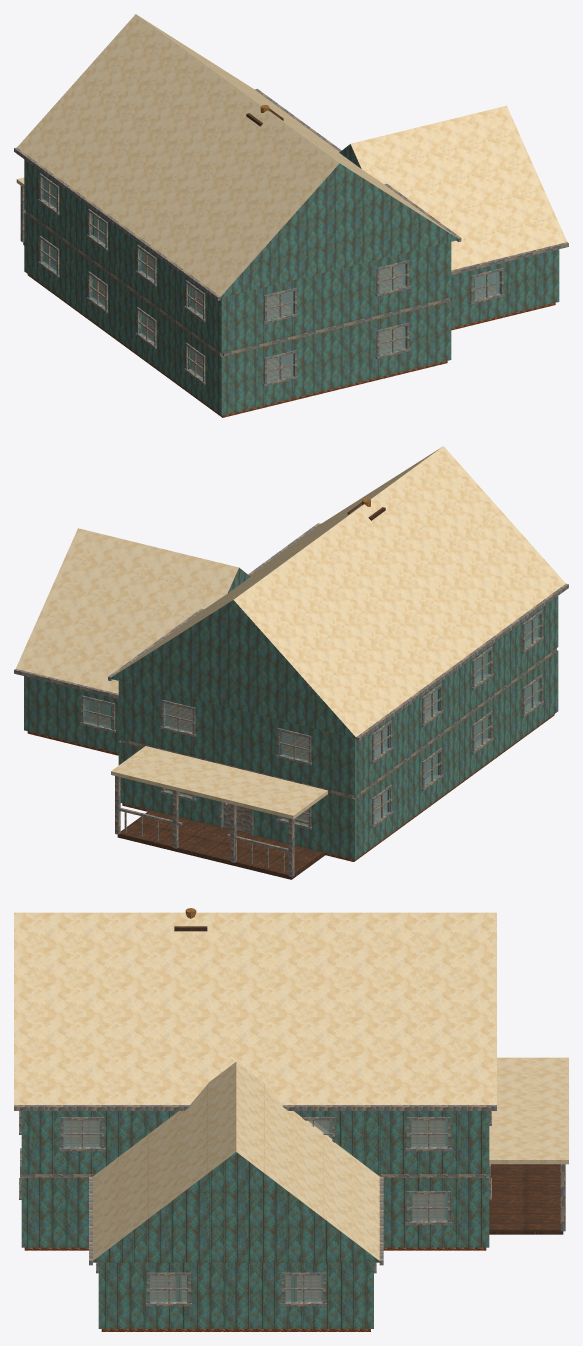
File: elm-cross-gable.gltf
The picture shows the model from 3 angles, top to bottom: view 1: azimuth 30°, elevation 25°; view 2: azimuth 150°, elevation 25°; view 3: azimuth 270°, elevation 25°; orthographic projection. The views are drawn at different scales.
Parts seen in each view (by area): view 1: roof-L1-green-metal, exterior-L0-cream-siding, exterior-L1-cream-siding, roof-L0-green-metal, roof-L1-cream-siding, trim-L0-dark-wood, trim-L1-dark-wood, glazing-L0-glass, floor-L0-floor, glazing-L1-glass, roof-L1-dark-wood, exterior-L0-dark-wood (+2 smaller); view 2: roof-L1-green-metal, exterior-L0-cream-siding, exterior-L1-cream-siding, roof-L0-green-metal, roof-L1-cream-siding, porch-L0-green-metal, porch-L0-stone, trim-L1-dark-wood, trim-L0-dark-wood, porch-L0-dark-wood, glazing-L1-glass, roof-L1-dark-wood (+6 smaller); view 3: roof-L1-green-metal, exterior-L0-cream-siding, roof-L0-green-metal, roof-L0-cream-siding, exterior-L1-cream-siding, porch-L0-green-metal, porch-L0-stone, floor-L0-floor, glazing-L0-glass, trim-L0-dark-wood, roof-L1-dark-wood, glazing-L1-glass (+4 smaller).
Boxes of the visible parts, box(x1,y1,x2,y2) form: roof-L1-green-metal: box(17, 14, 455, 296); exterior-L0-cream-siding: box(24, 212, 559, 415); exterior-L1-cream-siding: box(24, 159, 451, 353); roof-L0-green-metal: box(350, 105, 566, 270); roof-L1-cream-siding: box(220, 163, 458, 297); trim-L0-dark-wood: box(38, 236, 504, 386); trim-L1-dark-wood: box(38, 173, 410, 323); glazing-L0-glass: box(43, 241, 499, 381); floor-L0-floor: box(27, 274, 555, 417); glazing-L1-glass: box(43, 179, 405, 318); roof-L1-dark-wood: box(14, 89, 461, 300); exterior-L0-dark-wood: box(25, 210, 449, 356); roof-L1-green-metal: box(114, 446, 565, 736); exterior-L0-cream-siding: box(24, 650, 558, 859); exterior-L1-cream-siding: box(118, 596, 558, 795); roof-L0-green-metal: box(16, 528, 238, 693); roof-L1-cream-siding: box(111, 600, 355, 738); porch-L0-green-metal: box(111, 746, 327, 819); porch-L0-stone: box(117, 810, 324, 879); trim-L1-dark-wood: box(160, 610, 543, 765); trim-L0-dark-wood: box(80, 674, 543, 835); porch-L0-dark-wood: box(115, 776, 308, 877); glazing-L1-glass: box(165, 616, 538, 760); roof-L1-dark-wood: box(108, 523, 568, 741); roof-L1-green-metal: box(14, 912, 496, 1104); exterior-L0-cream-siding: box(21, 1176, 489, 1328); roof-L0-green-metal: box(93, 1061, 379, 1260); roof-L0-cream-siding: box(92, 1152, 379, 1262); exterior-L1-cream-siding: box(21, 1111, 489, 1173); porch-L0-green-metal: box(489, 1057, 568, 1164); porch-L0-stone: box(489, 1164, 563, 1234); floor-L0-floor: box(24, 1195, 486, 1331); glazing-L0-glass: box(149, 1194, 447, 1301); trim-L0-dark-wood: box(19, 1126, 491, 1306); roof-L1-dark-wood: box(14, 1105, 496, 1110); glazing-L1-glass: box(63, 1120, 447, 1146).
Size of the model in its own units: 13.61 by 7.91 by 14.43.
11 materials, 10 textured.
